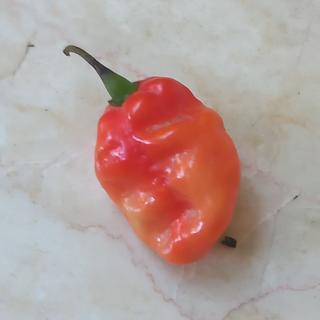Grade-A: (87, 77, 244, 268)
